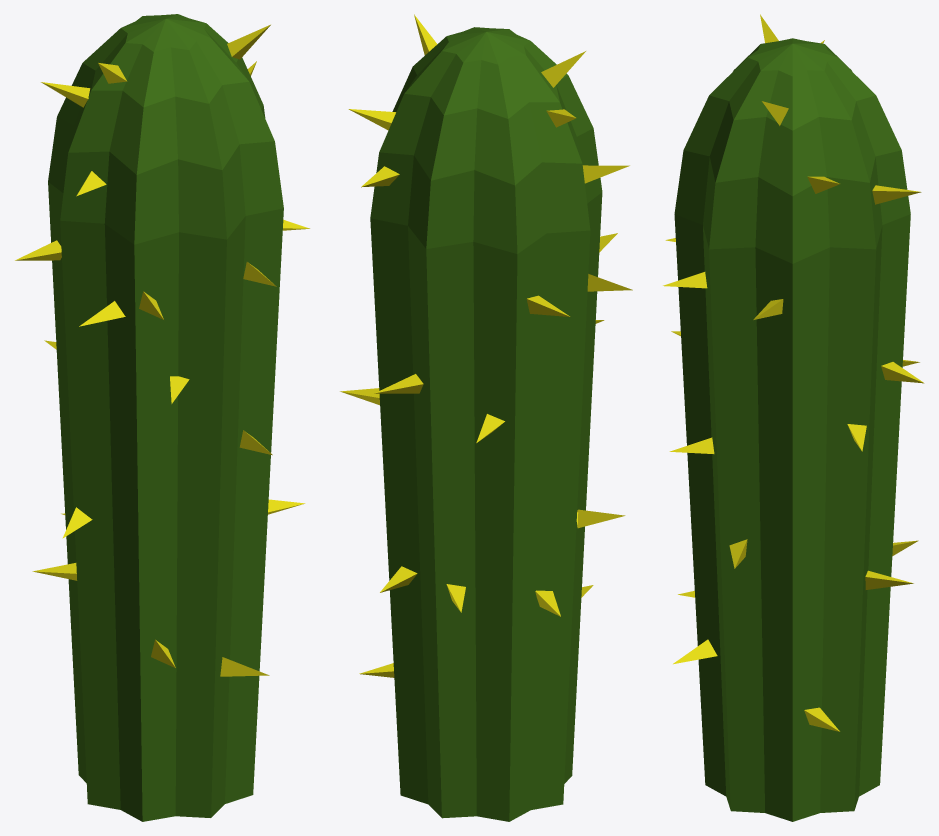
File: Cactus_18_B.fbx
The picture shows the model from 3 angles, left to right: view 1: azimuth 30°, elevation 25°; view 2: azimuth 150°, elevation 25°; view 3: azimuth 270°, elevation 25°; orthographic projection. The views are drawn at different scales.
Visible parts, largest first — view 1: Cactus_18_B; view 2: Cactus_18_B; view 3: Cactus_18_B.
Part boxes in pixels (left/top/right/bottom): Cactus_18_B: left=15, top=14, right=309, bottom=821; Cactus_18_B: left=340, top=14, right=632, bottom=821; Cactus_18_B: left=663, top=14, right=924, bottom=821.
Bounding box in the file's own units: 83.33 × 247 × 79.38.
